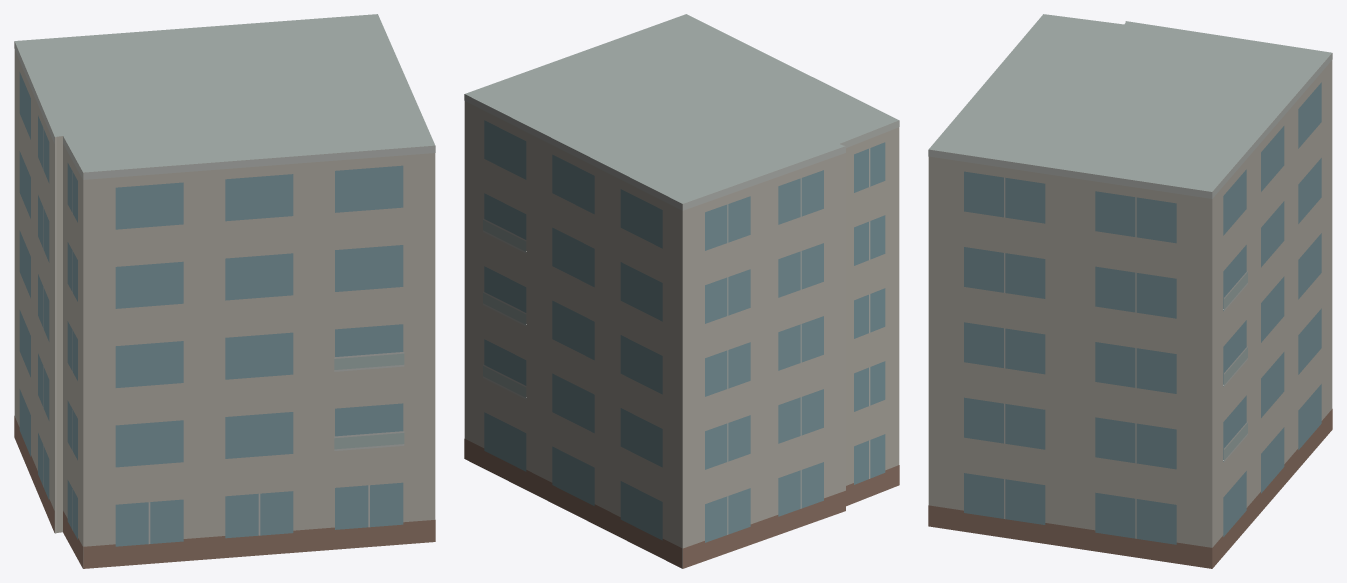
The model's file is survey-upis-32842152.glb.
3 views of the same model, side by side, from view 1: azimuth 30°, elevation 25°; view 2: azimuth 150°, elevation 25°; view 3: azimuth 270°, elevation 25° (orthographic). The views are drawn at different scales.
Visible parts, largest first — view 1: survey-upis-32842152.tmp; view 2: survey-upis-32842152.tmp; view 3: survey-upis-32842152.tmp.
Part boxes in pixels (<box>): survey-upis-32842152.tmp: <box>14,14,435,568</box>; survey-upis-32842152.tmp: <box>464,14,899,568</box>; survey-upis-32842152.tmp: <box>928,14,1332,568</box>.
Size of the model in its own units: 13.28 by 13.1 by 12.74.
